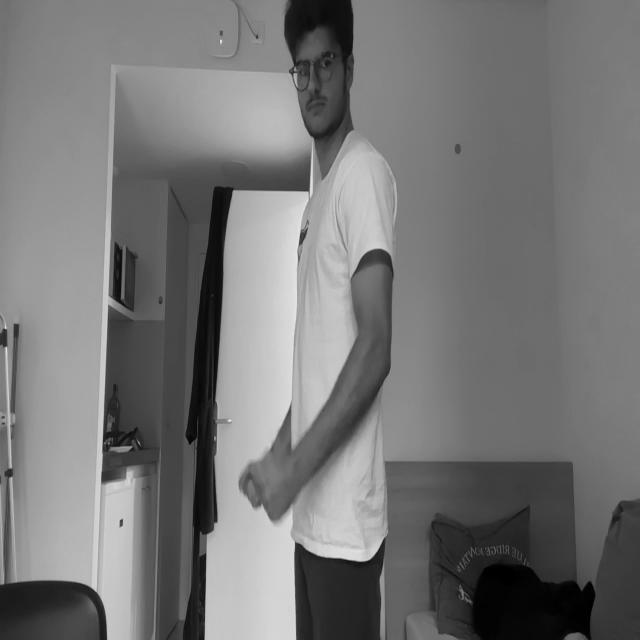elbow: (358, 314, 390, 376)
hand: (258, 456, 298, 519), (236, 455, 269, 510)
shoulder: (344, 158, 394, 246)
